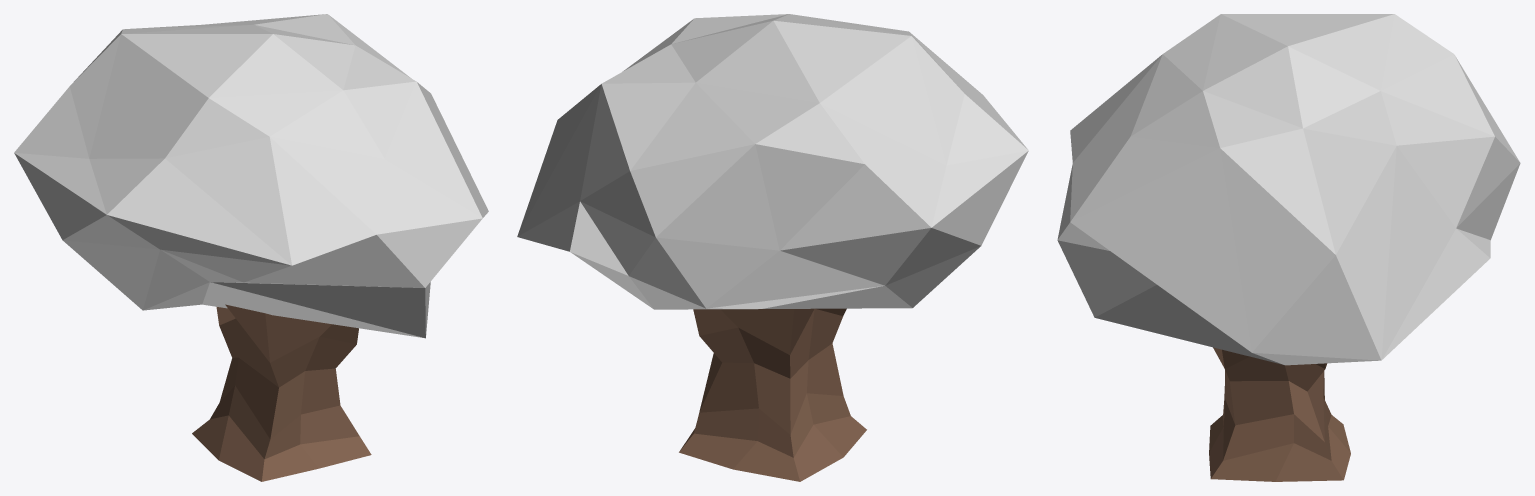
The model's file is Tree_30_White.fbx.
3 views of the same model, side by side, from view 1: azimuth 30°, elevation 25°; view 2: azimuth 150°, elevation 25°; view 3: azimuth 270°, elevation 25° (orthographic). The views are drawn at different scales.
Visible parts, largest first — view 1: Tree_30_White_Part_1, Tree_30_White_Part_2; view 2: Tree_30_White_Part_1, Tree_30_White_Part_2; view 3: Tree_30_White_Part_1, Tree_30_White_Part_2.
Boxes of the visible parts, x1,y1,x2,y2 form: Tree_30_White_Part_1: [14, 14, 488, 338]; Tree_30_White_Part_2: [192, 304, 371, 481]; Tree_30_White_Part_1: [517, 14, 1028, 309]; Tree_30_White_Part_2: [679, 308, 866, 481]; Tree_30_White_Part_1: [1057, 14, 1520, 365]; Tree_30_White_Part_2: [1209, 347, 1350, 481].
Bounding box in the file's own units: 912 × 881 × 915.
